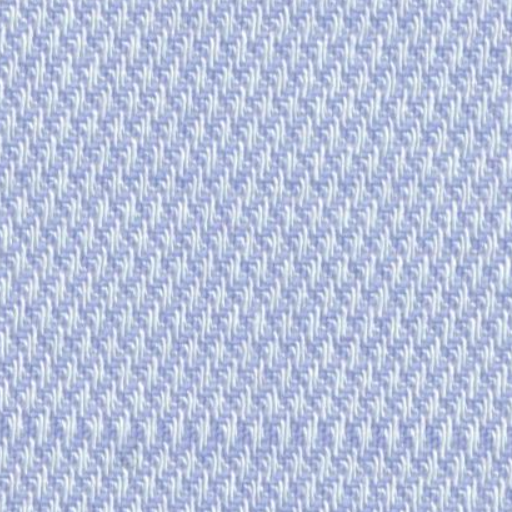TuoSha: (24, 378, 500, 478)
